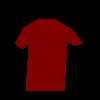abbigliamento_uomo: (14, 18, 83, 91)
